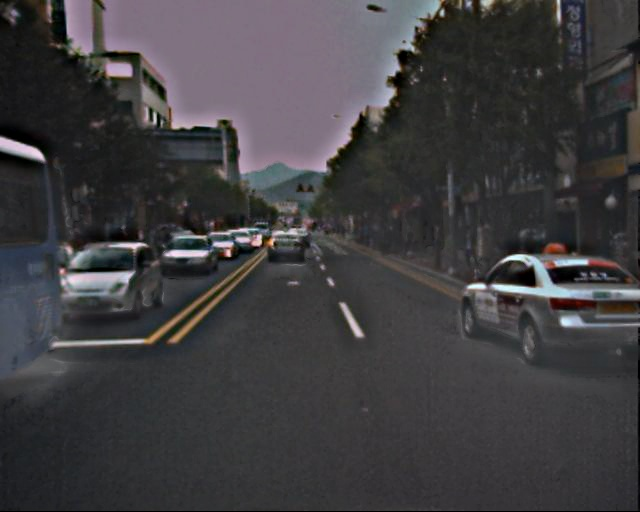person: (461, 224, 481, 272)
